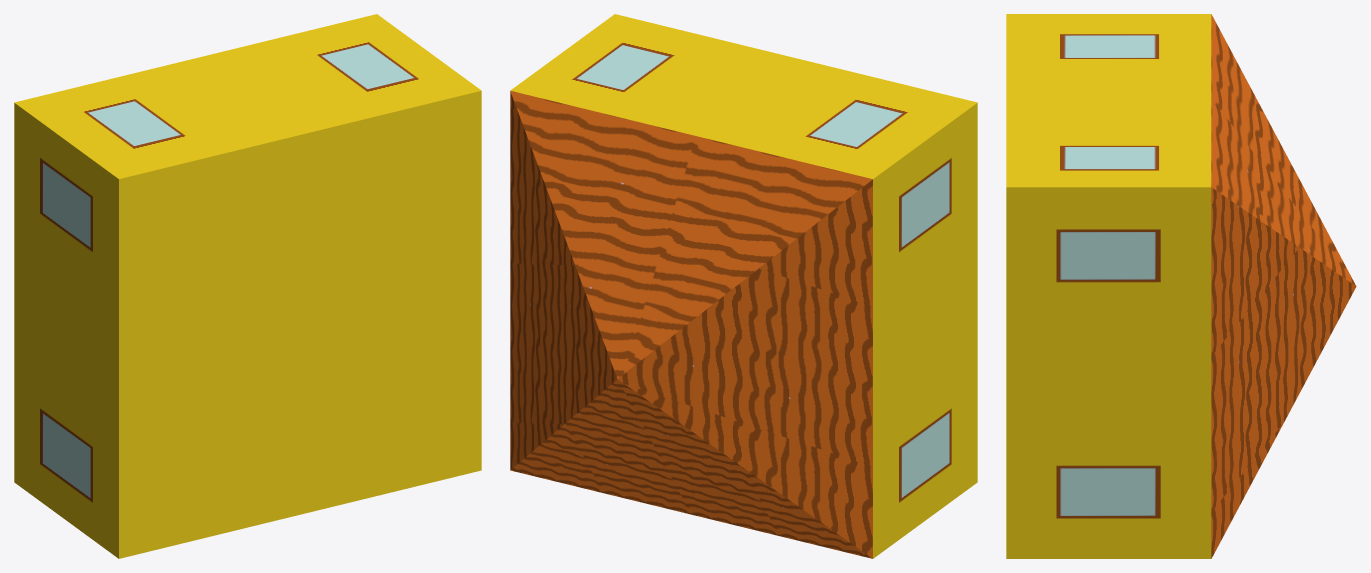
Rendered from TestHouse.fbx.
The picture shows the model from 3 angles, left to right: view 1: azimuth 30°, elevation 25°; view 2: azimuth 150°, elevation 25°; view 3: azimuth 270°, elevation 25°; orthographic projection. The views are drawn at different scales.
Parts seen in each view (by area): view 1: TestHouse; view 2: TestHouse; view 3: TestHouse.
Boxes of the visible parts, x1,y1,x2,y2 form: TestHouse: [14, 14, 481, 558]; TestHouse: [510, 14, 977, 558]; TestHouse: [1006, 14, 1356, 558].
Bounding box in the file's own units: 400 × 400 × 341.
